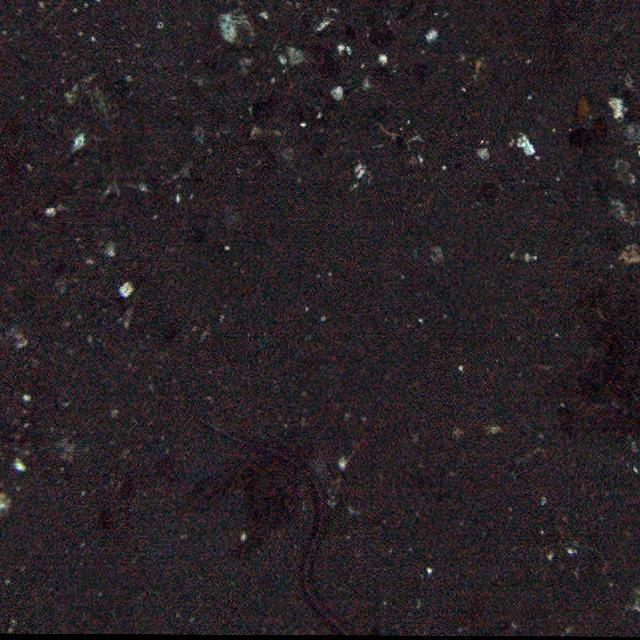eel: (198, 419, 388, 635)
